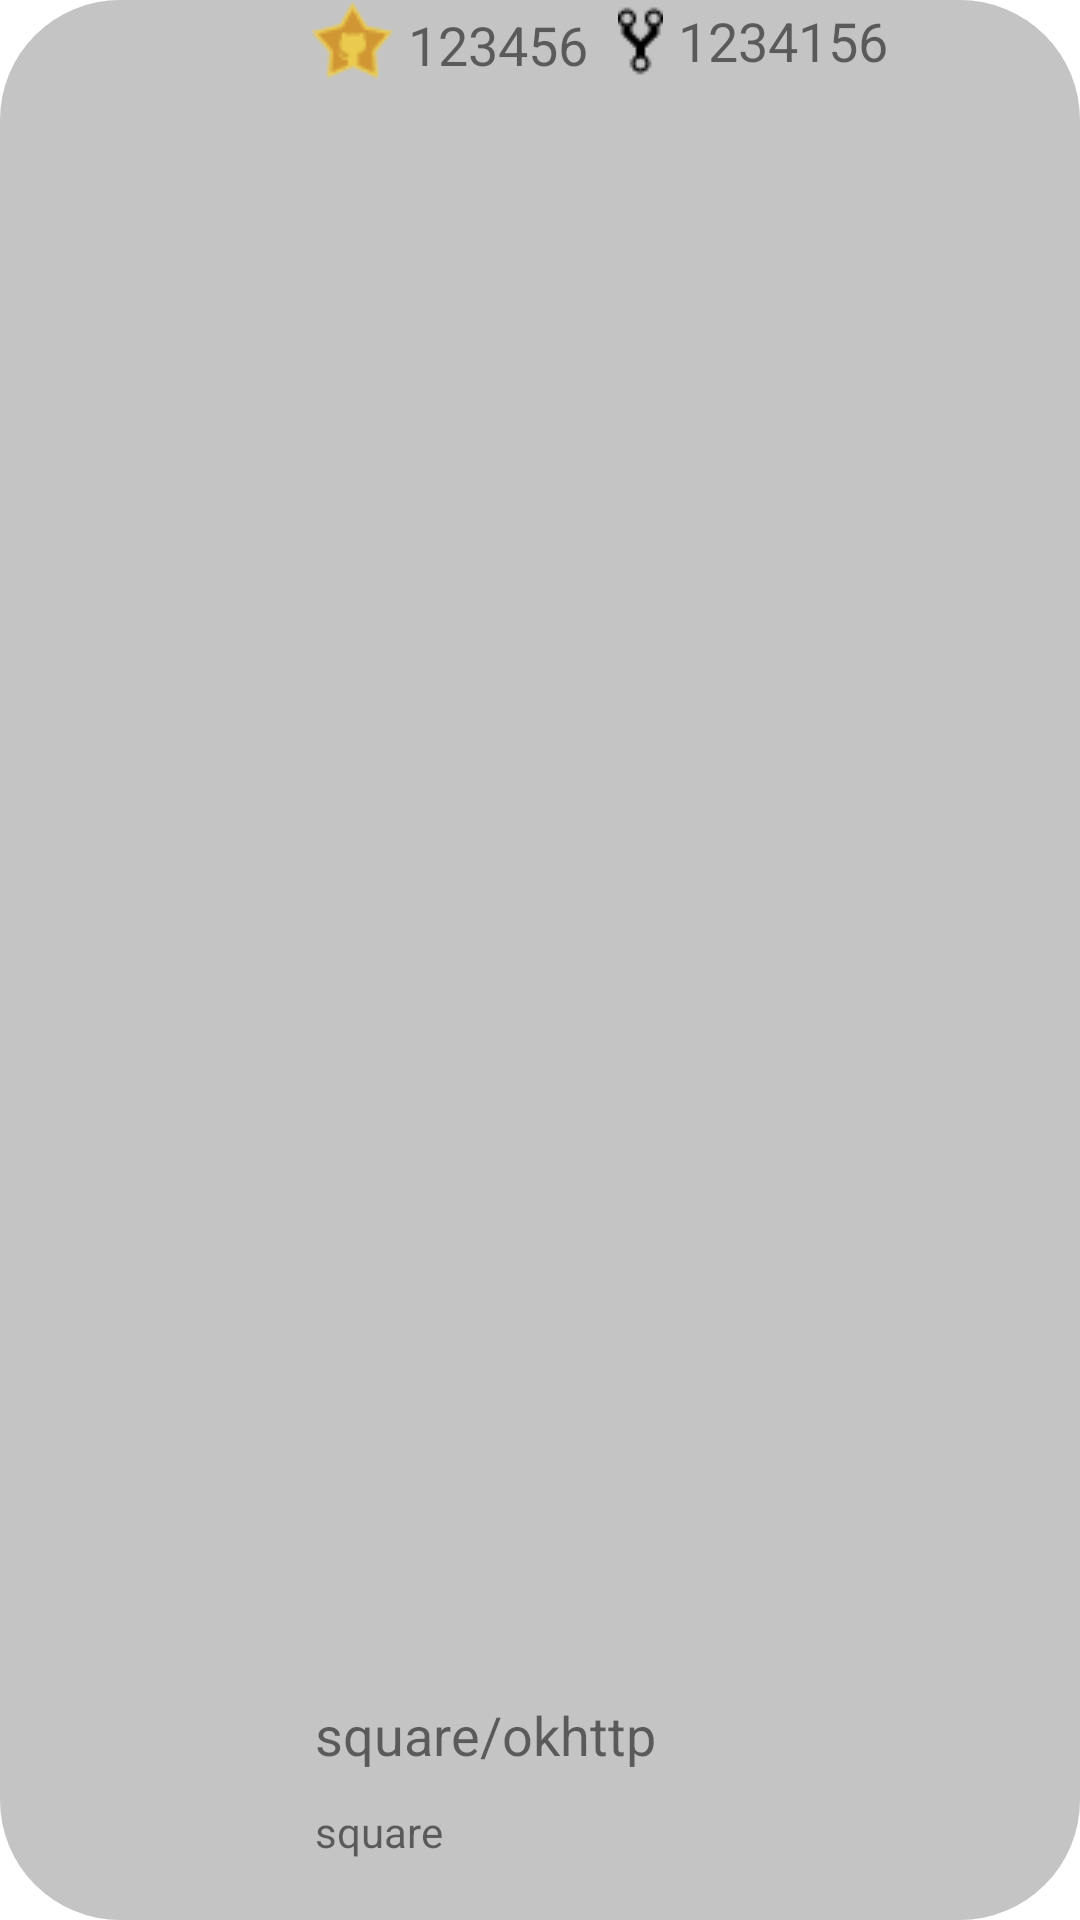

Where icons sit on this 1080px×1920px app screen, as (x1, y1, x2, y2):
fork: (618, 7, 663, 75)
star: (312, 2, 393, 79)
